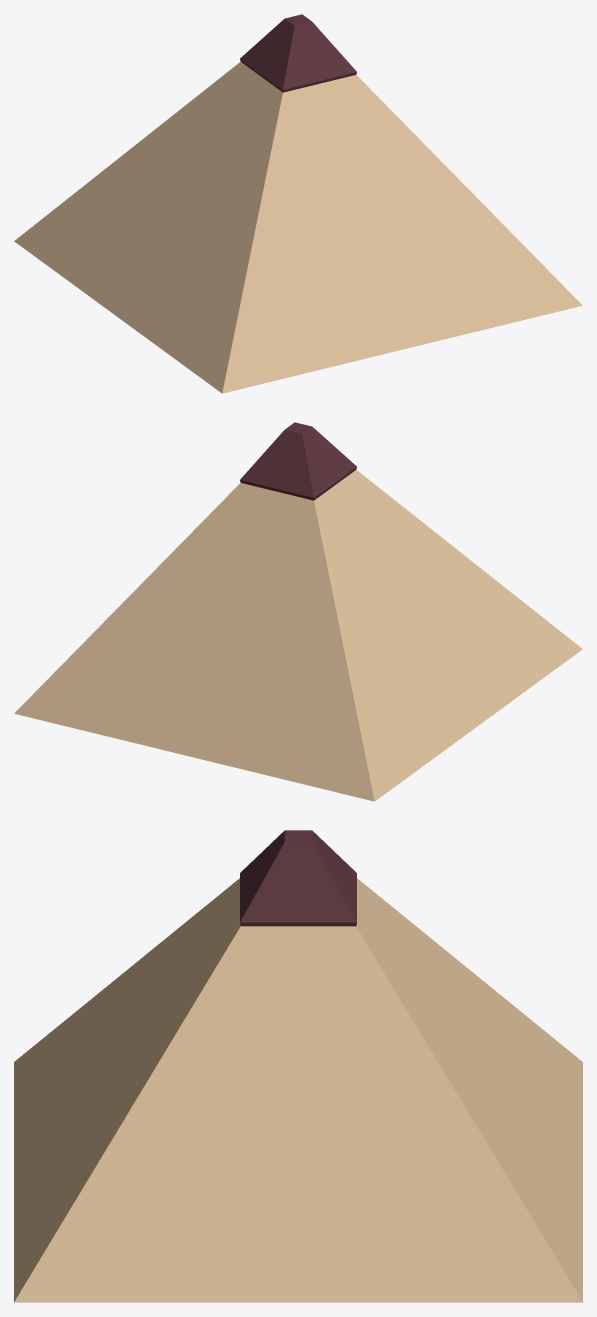
File: egypt-pyramid-new.glb
3 renders of one model, top to bottom at view 1: azimuth 30°, elevation 25°; view 2: azimuth 150°, elevation 25°; view 3: azimuth 270°, elevation 25°, orthographic. The views are drawn at different scales.
Visible parts, largest first — view 1: pyramid-new; view 2: pyramid-new; view 3: pyramid-new.
Part boxes in pixels (left/top/right/bottom): pyramid-new: left=14, top=14, right=582, bottom=393; pyramid-new: left=14, top=422, right=582, bottom=801; pyramid-new: left=14, top=830, right=582, bottom=1302.
Size of the model in its own units: 60 by 40.27 by 60.
